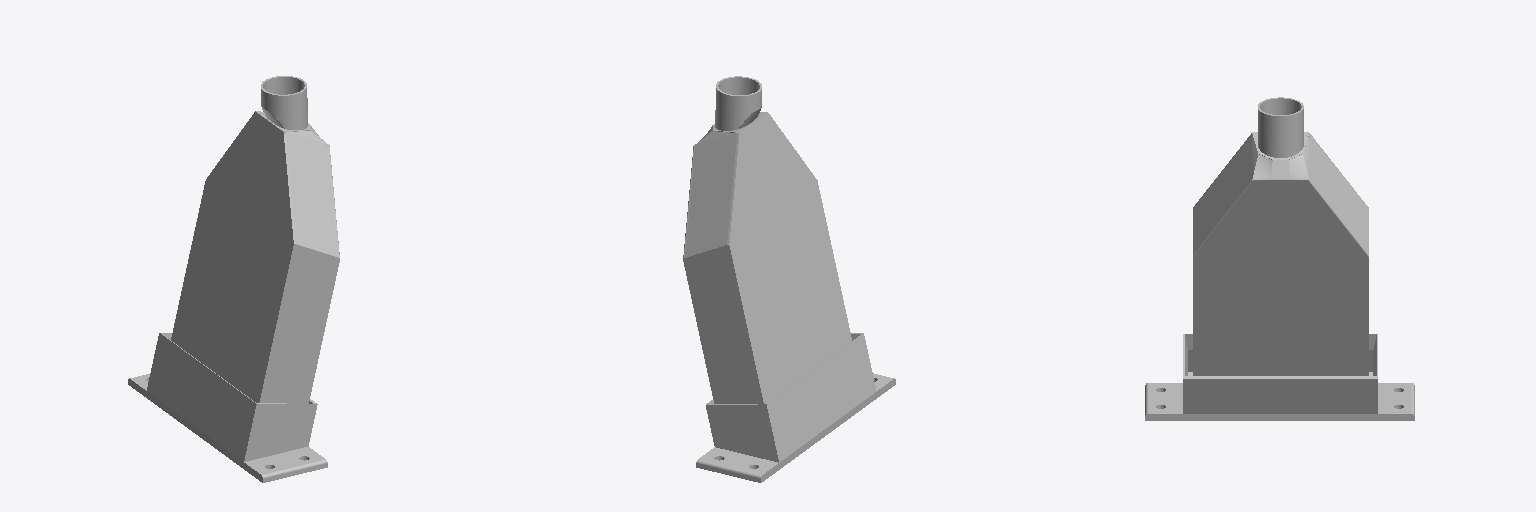
Rendered from Assembly3.obj.
3 views of the same model, side by side, from view 1: azimuth 30°, elevation 25°; view 2: azimuth 150°, elevation 25°; view 3: azimuth 270°, elevation 25° (orthographic).
Visible parts, largest first — view 1: Solid1, Solid2:1, Solid3, Solid1:1; view 2: Solid1, Solid2:1, Solid2, Solid1:1; view 3: Solid1, Solid2:1, Solid1:1, Solid2, Solid3.
Boxes of the visible parts, box(x1,y1,x2,y2) form: Solid1: box(171, 76, 339, 403); Solid2:1: box(147, 333, 317, 461); Solid3: box(286, 133, 337, 256); Solid1:1: box(128, 374, 327, 482); Solid1: box(683, 76, 851, 403); Solid2:1: box(706, 333, 876, 462); Solid2: box(685, 133, 736, 257); Solid1:1: box(696, 373, 895, 482); Solid1: box(1193, 97, 1368, 375); Solid2:1: box(1183, 334, 1377, 413); Solid1:1: box(1145, 383, 1414, 420); Solid2: box(1309, 134, 1368, 252); Solid3: box(1193, 135, 1251, 252).
Size of the model in its own units: 3.46 by 8.96 by 6.69.